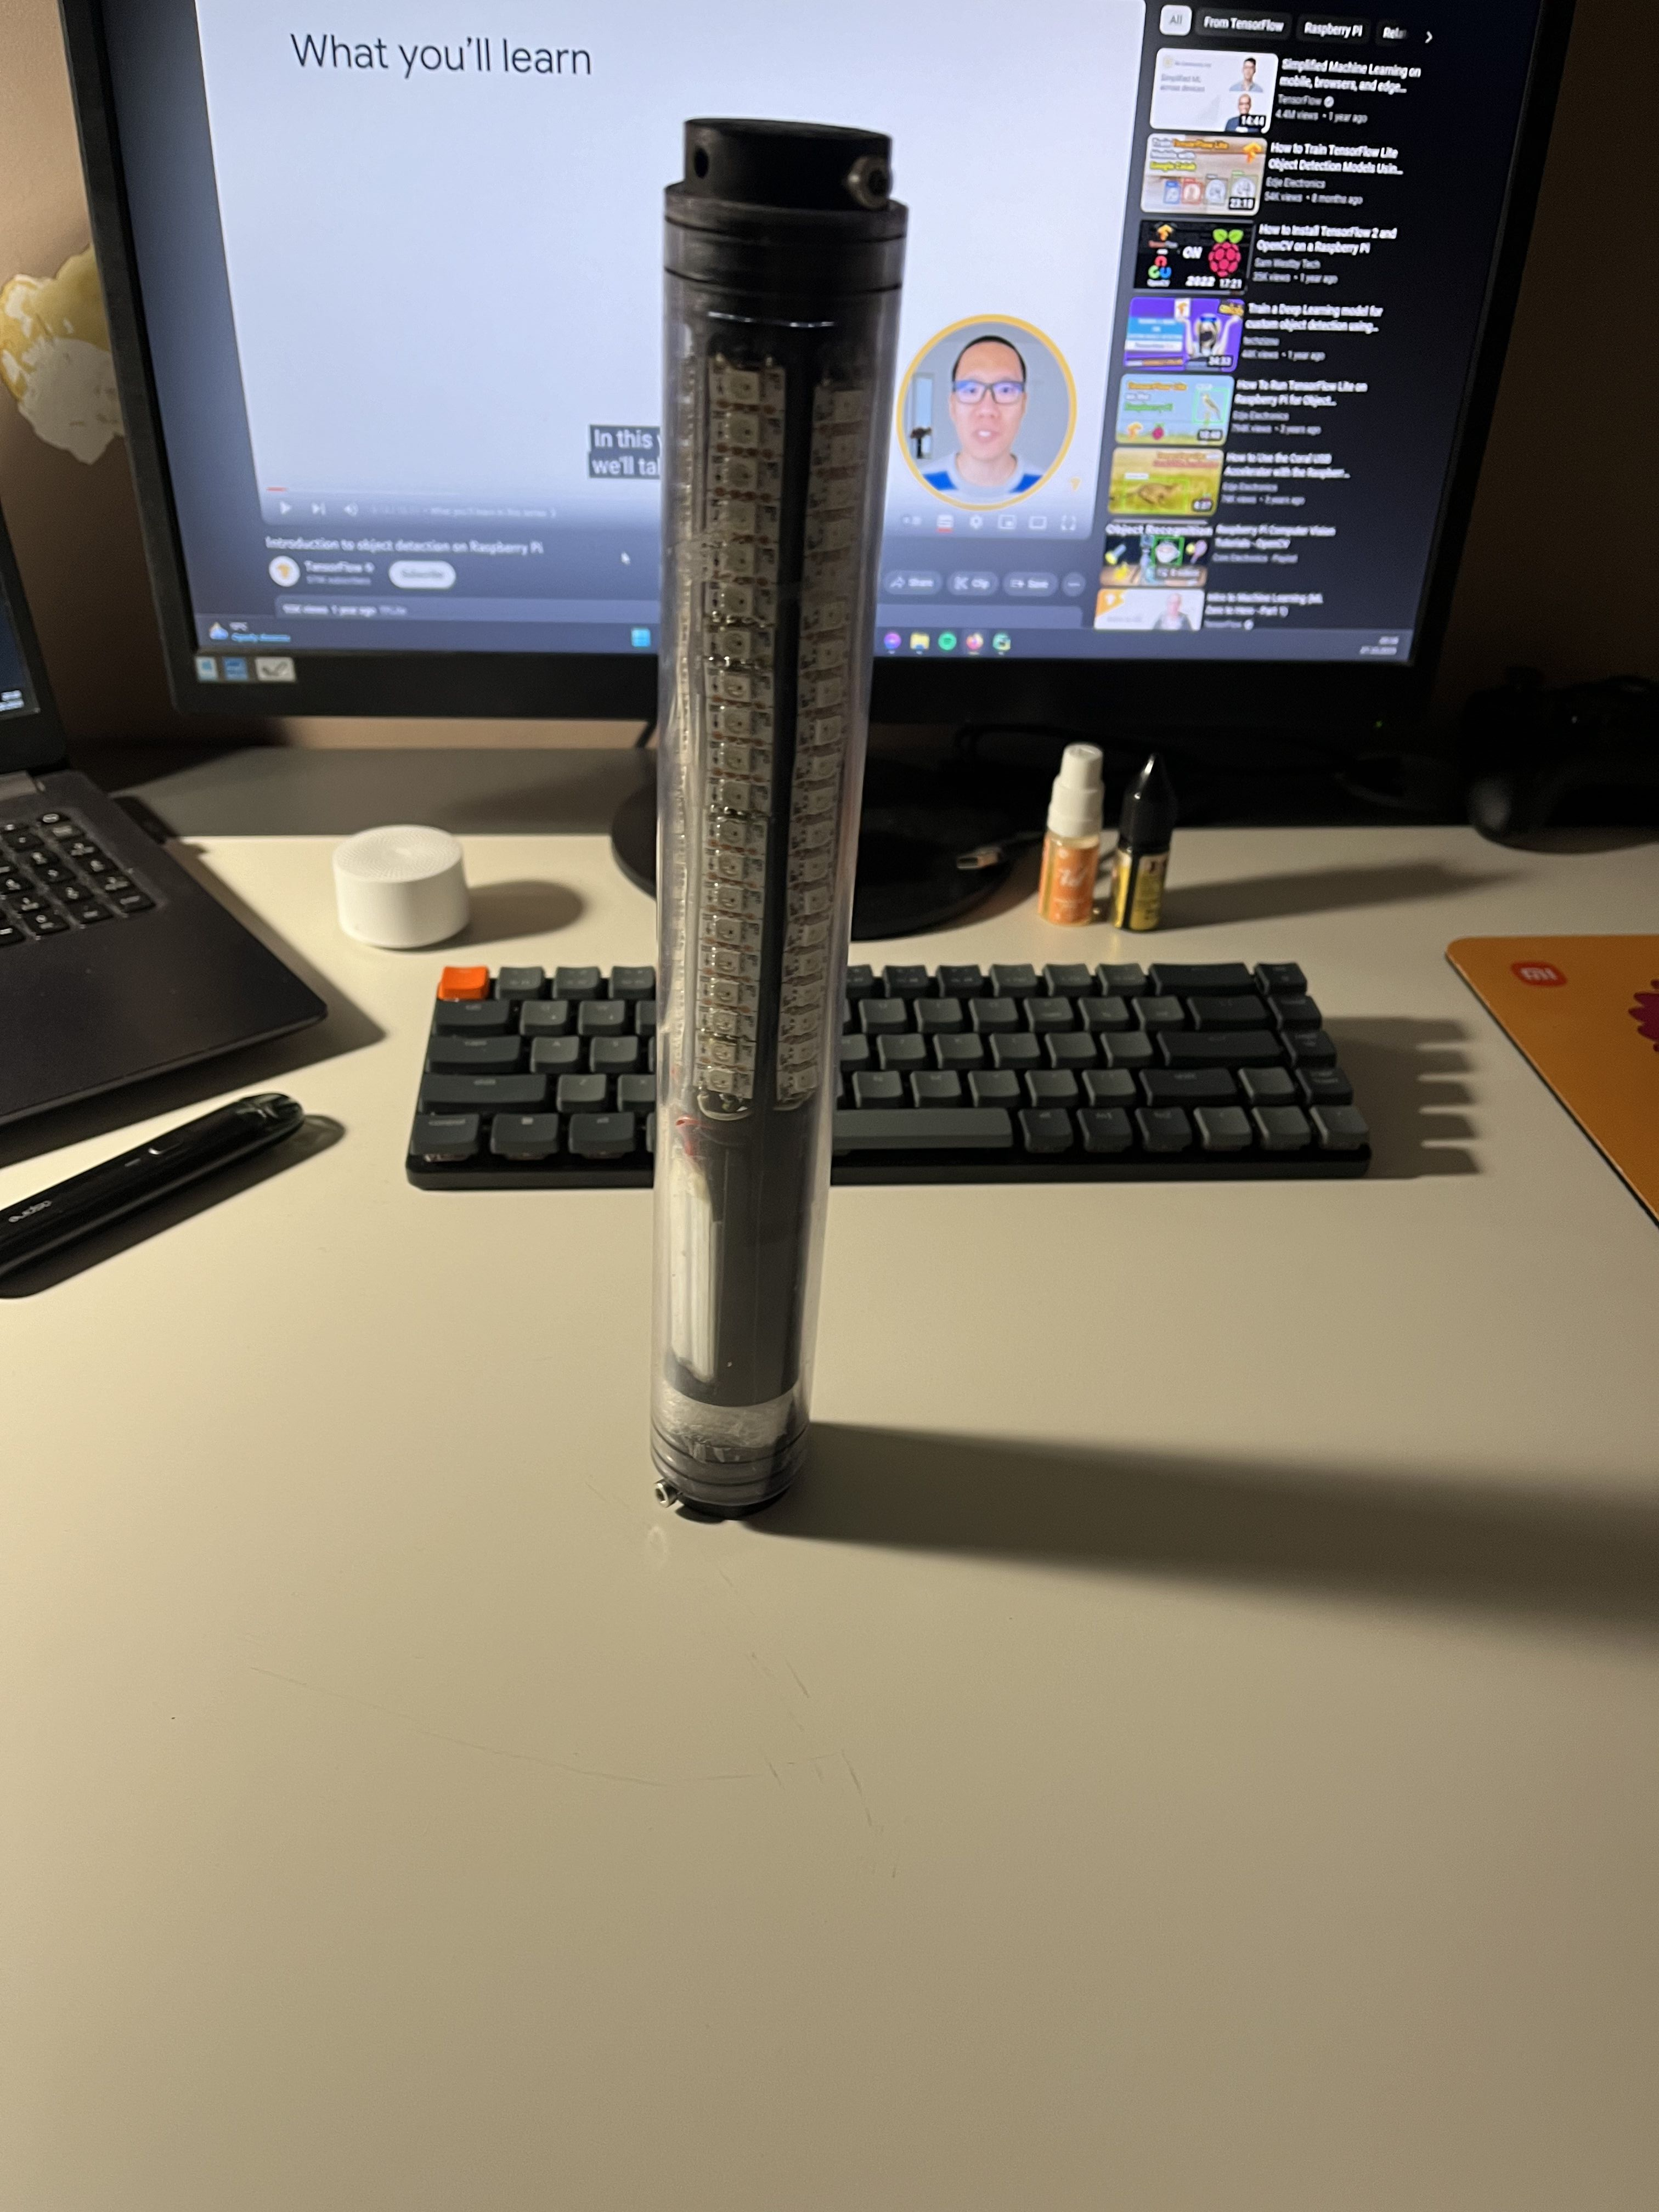black: (643, 216, 904, 1529)
